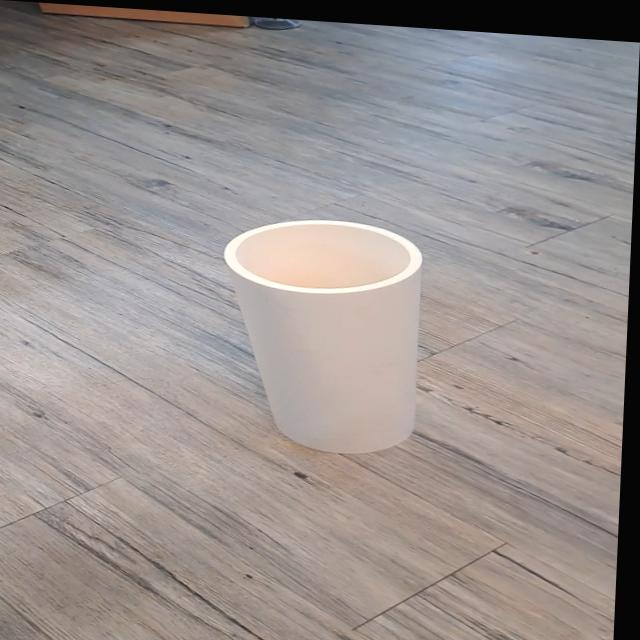CORAL: (176, 200, 498, 495)
